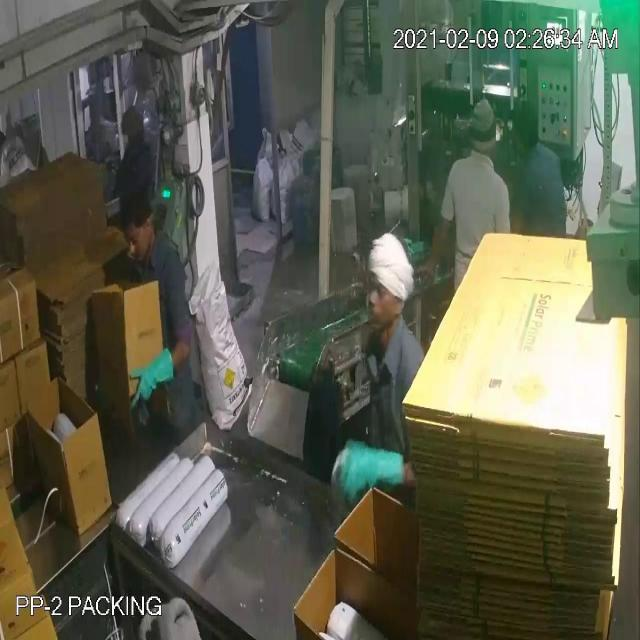Gloves: (38, 71, 433, 470)
